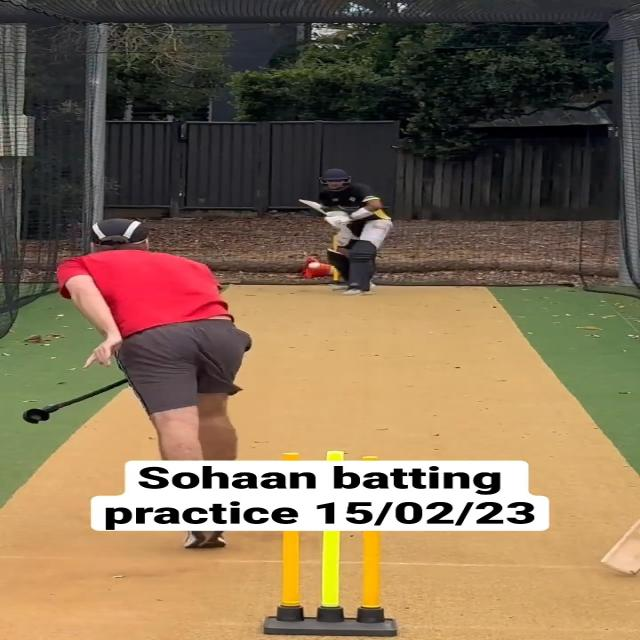ball: (308, 262, 322, 270), (308, 262, 321, 269)
stump: (269, 531, 394, 637)
